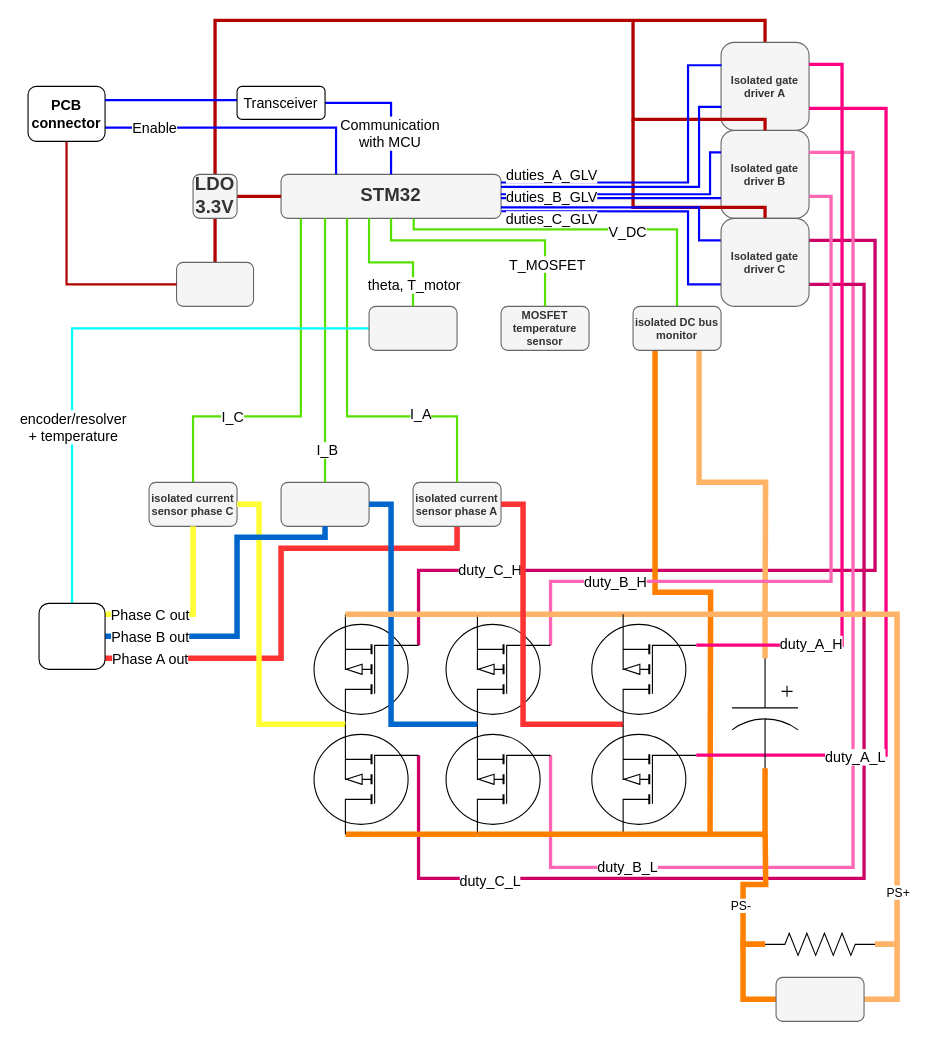
This 928x1041 diagram has some shape labels left out. Here are the shapes that lost their labels. From the top down, the centre of each, then its label:
At [214,283]: "DC-DC 12 to 5V".
At [412,327]: "motor sensors (temperature & position)".
At [324,503]: "isolated current sensor phase B".
At [71,635]: "3 Phase Motor connection".
At [819,998]: "Battery input".
